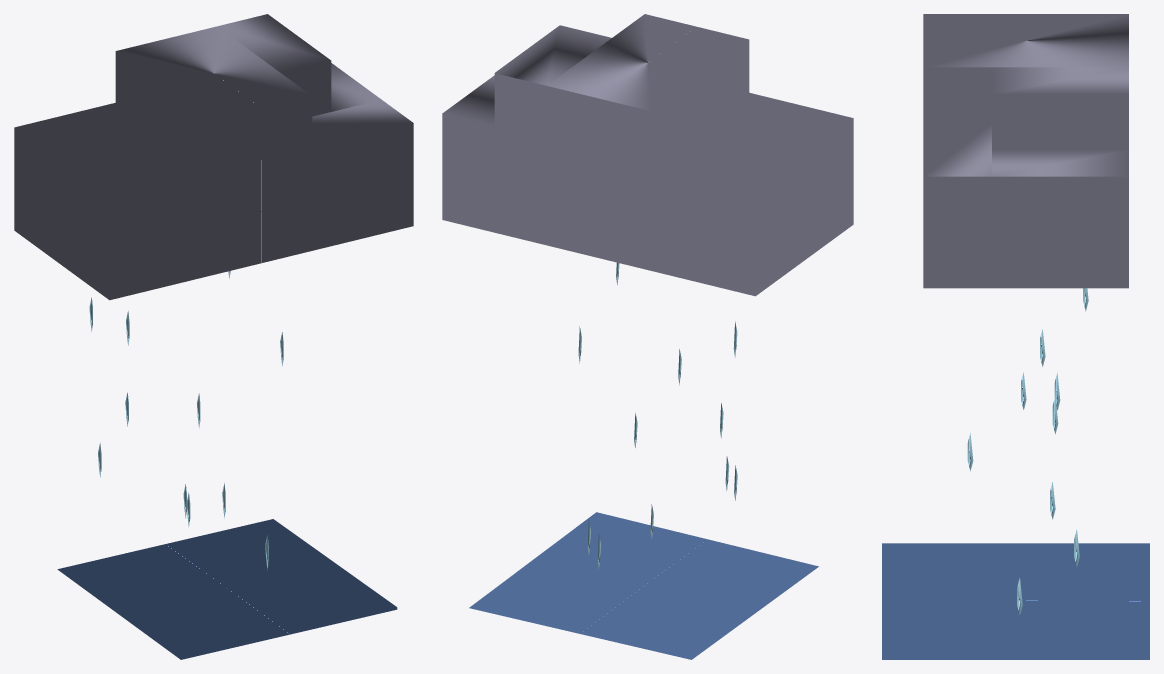
The model's file is rain-cloud-pixor-blocky_lod1.glb.
3 renders of one model, left to right at view 1: azimuth 30°, elevation 25°; view 2: azimuth 150°, elevation 25°; view 3: azimuth 270°, elevation 25°, orthographic. The views are drawn at different scales.
Parts seen in each view (by area): view 1: Rain cloud, Rain puddle, Rain streaks; view 2: Rain cloud, Rain puddle, Rain streaks; view 3: Rain cloud, Rain puddle, Rain streaks.
Boxes of the visible parts, left/top/right/bottom form: Rain cloud: left=14, top=14, right=413, bottom=300; Rain puddle: left=57, top=519, right=397, bottom=659; Rain streaks: left=89, top=271, right=283, bottom=569; Rain cloud: left=442, top=14, right=853, bottom=296; Rain puddle: left=469, top=512, right=818, bottom=659; Rain streaks: left=578, top=262, right=737, bottom=569; Rain cloud: left=923, top=14, right=1128, bottom=288; Rain puddle: left=882, top=543, right=1149, bottom=659; Rain streaks: left=967, top=288, right=1088, bottom=614.
Size of the model in its own units: 1.59 by 2.57 by 1.12.
